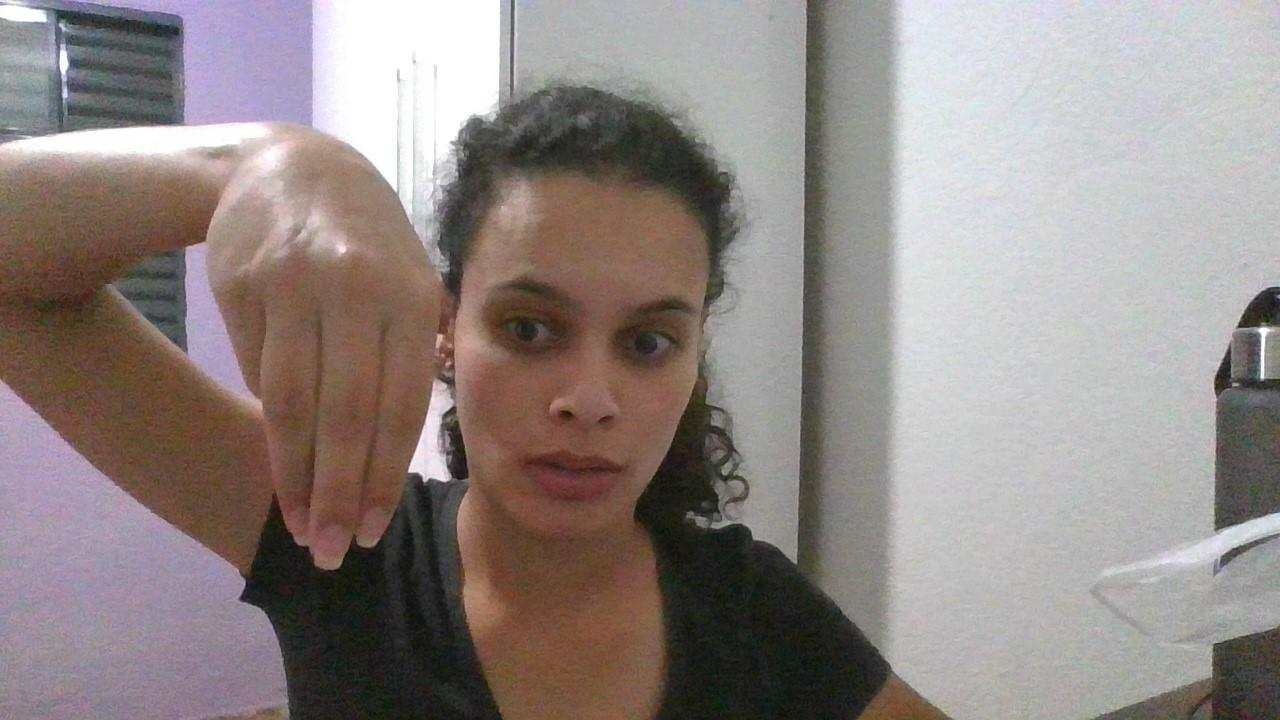M: (220, 106, 456, 580)
